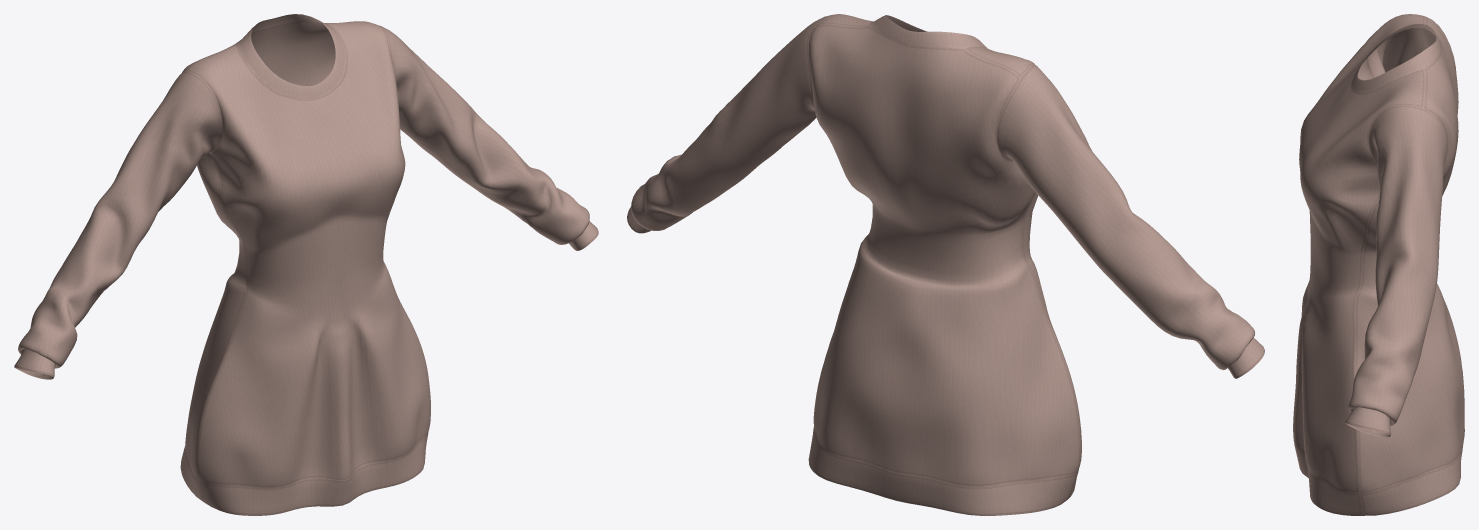
Rendered from female__shirt.glb.
3 renders of one model, left to right at view 1: azimuth 30°, elevation 25°; view 2: azimuth 150°, elevation 25°; view 3: azimuth 270°, elevation 25°, orthographic. The views are drawn at different scales.
Visible parts, largest first — view 1: Female_Shirt; view 2: Female_Shirt; view 3: Female_Shirt.
Boxes of the visible parts, x1,y1,x2,y2 form: Female_Shirt: (14, 14, 598, 515); Female_Shirt: (627, 14, 1264, 515); Female_Shirt: (1293, 14, 1464, 515).
Size of the model in its own units: 1.09 by 0.7897 by 0.2838.
1 material, 1 textured.
